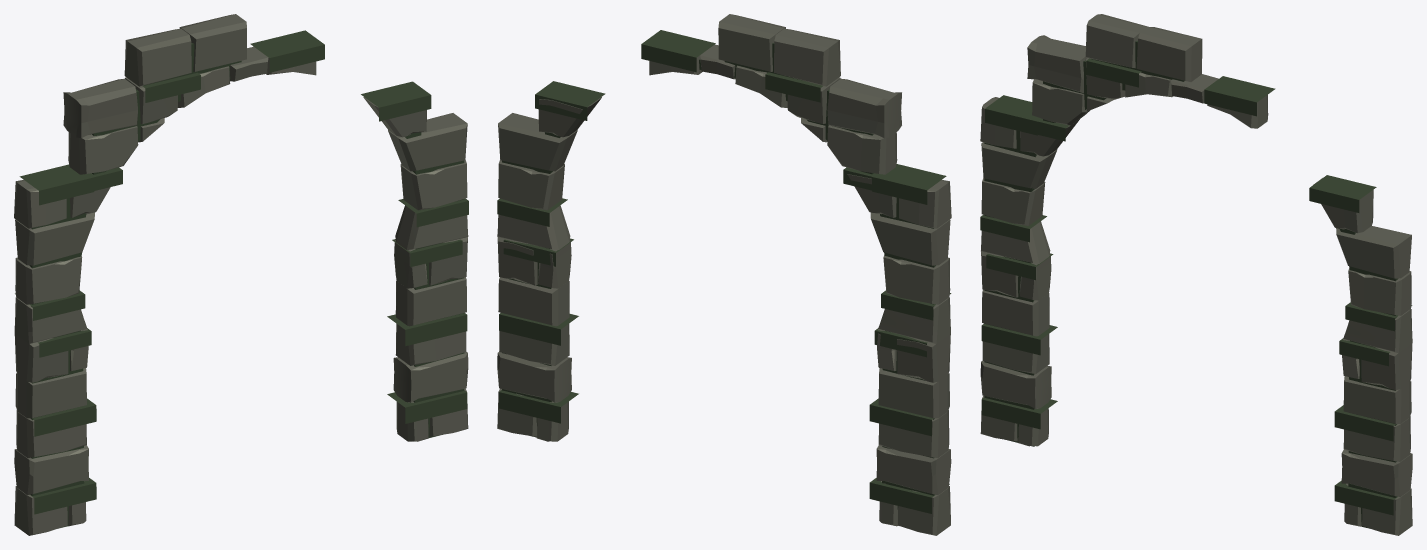
Rendered from ru_wall_ivy.glb.
3 views of the same model, side by side, from view 1: azimuth 30°, elevation 25°; view 2: azimuth 150°, elevation 25°; view 3: azimuth 330°, elevation 25° (orthographic). The views are drawn at different scales.
Parts seen in each view (by area): view 1: ru_wall_ivy; view 2: ru_wall_ivy; view 3: ru_wall_ivy.
Boxes of the visible parts, box(x1,y1,x2,y2) form: ru_wall_ivy: box(14, 14, 468, 535); ru_wall_ivy: box(497, 14, 951, 535); ru_wall_ivy: box(980, 14, 1412, 535).
Bounding box in the file's own units: 3.99 × 3.98 × 0.3161.
